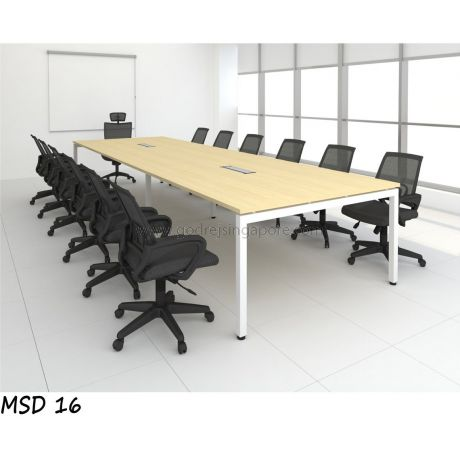conference_table: (73, 136, 401, 341)
